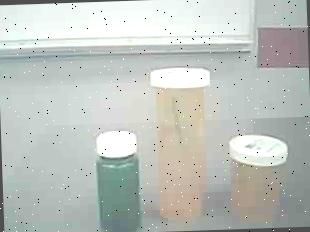Bottle A: (149, 60, 218, 228)
Bottle B: (226, 132, 292, 226)
Bottle C: (90, 128, 148, 232)
